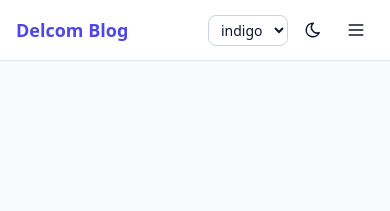
Test case: StickyNavbar › menu mobile terbuka, memakai item, dan tertutup
Click the button named "Menu": (356, 30) [338,12,374,48]
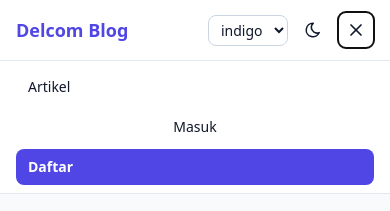
Expected: the element with test id "mobile-menu" is shown
Click the button "Masuk": (195, 127) [16,109,374,145]
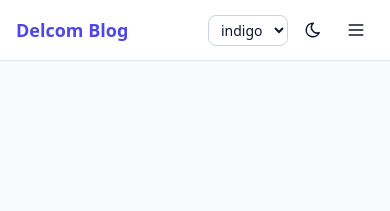
Expected: the element with test id "mobile-menu" is gone
